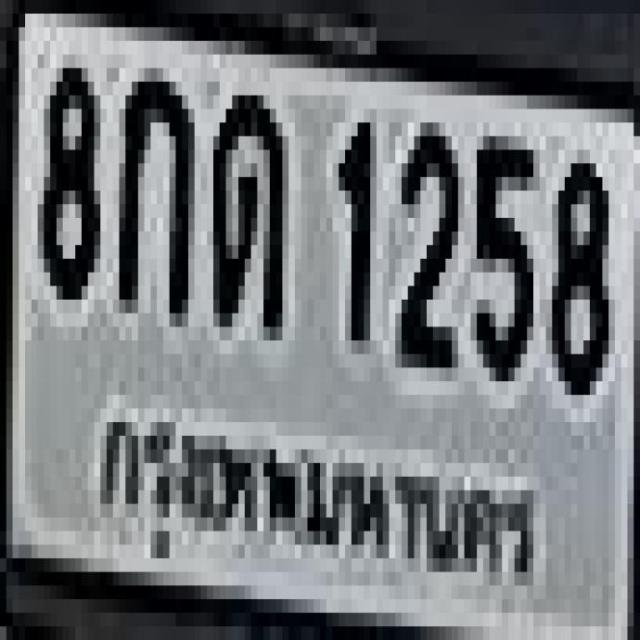1: (335, 111, 368, 338)
2: (394, 117, 455, 359)
5: (471, 126, 532, 370)
8: (34, 55, 95, 288), (546, 150, 605, 383)
A01: (115, 60, 188, 309)
A20: (210, 84, 279, 321)
BKK: (87, 391, 546, 600)
